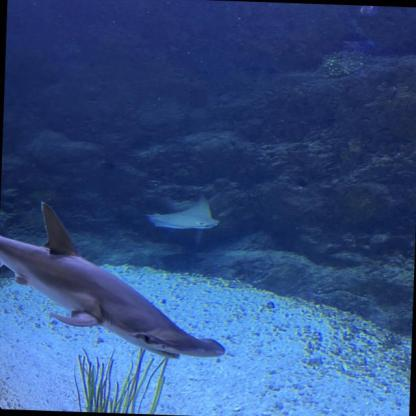shark: (0, 206, 228, 362)
stingray: (147, 190, 230, 240)
